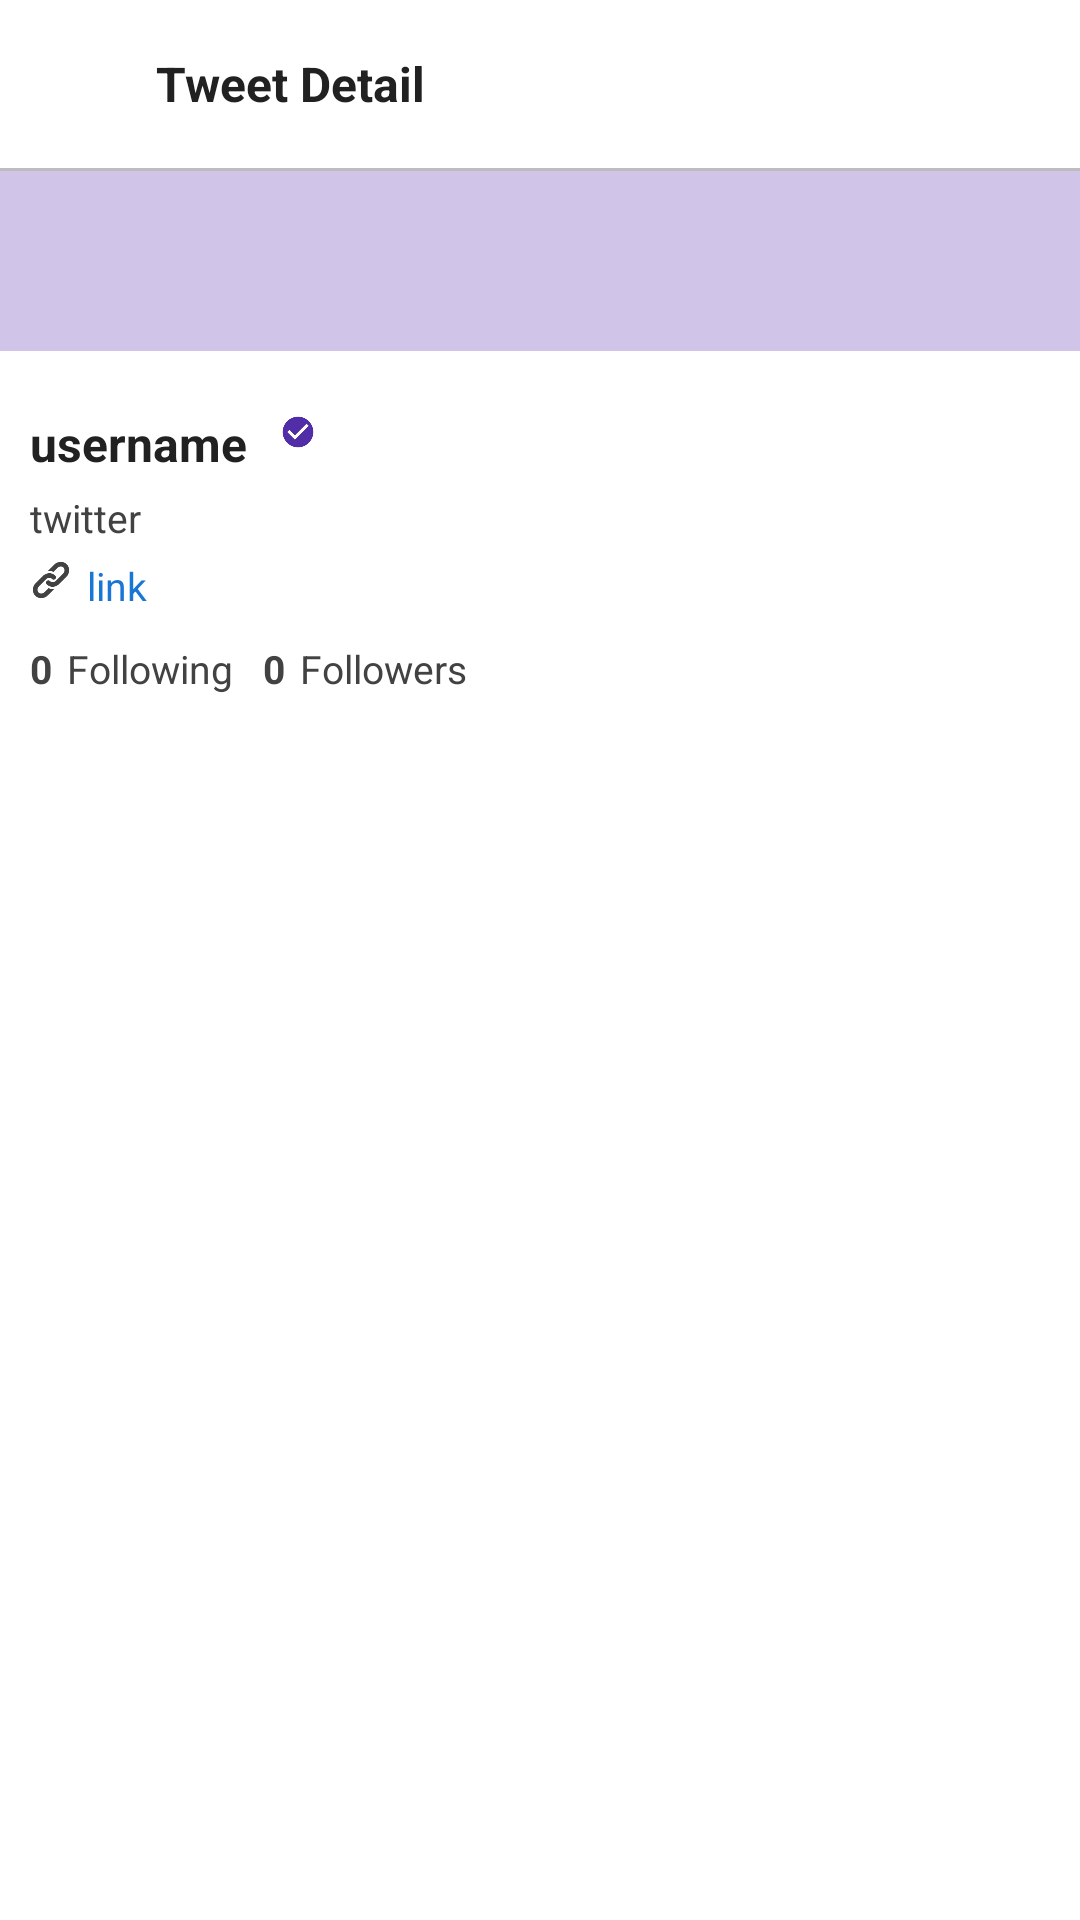

Screen size 1080px×1920px. Icon name, then its center in pixels as point (x, y):
verified: point (298, 432)
